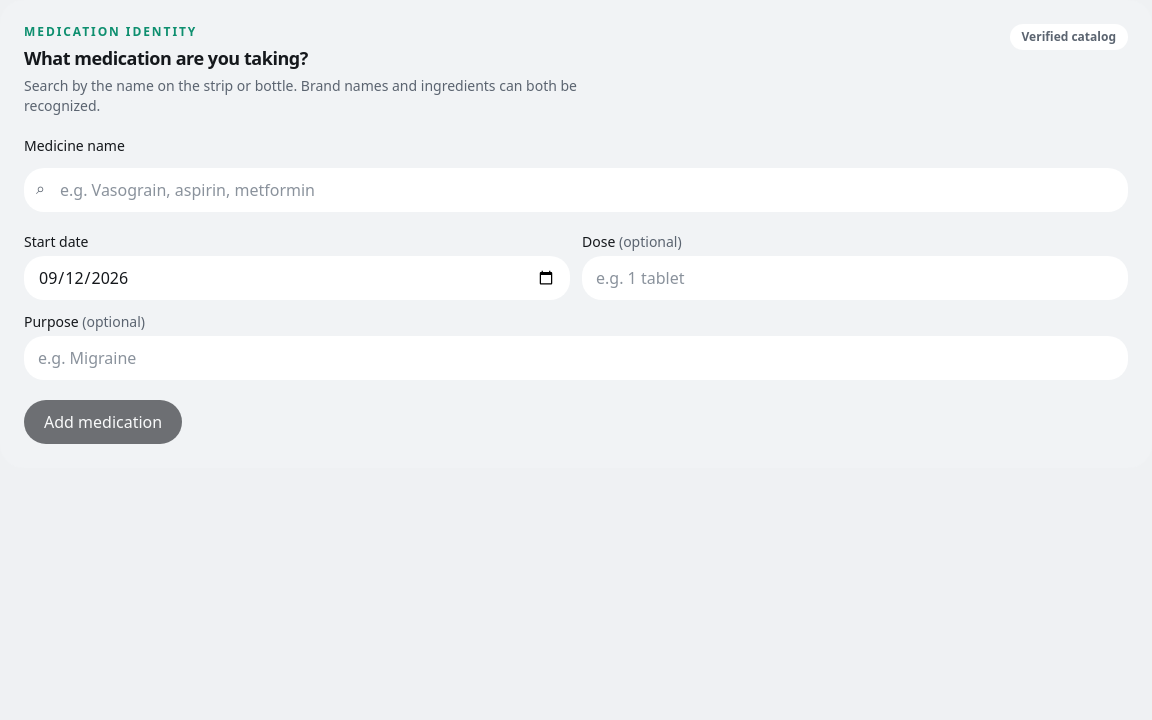
Test: MedicationPicker keyboard › closes the listbox on Escape without selecting
Type "ex" into the dropdown labelled "Medicine name" at x=576, y=190, box [24,168,1128,212]
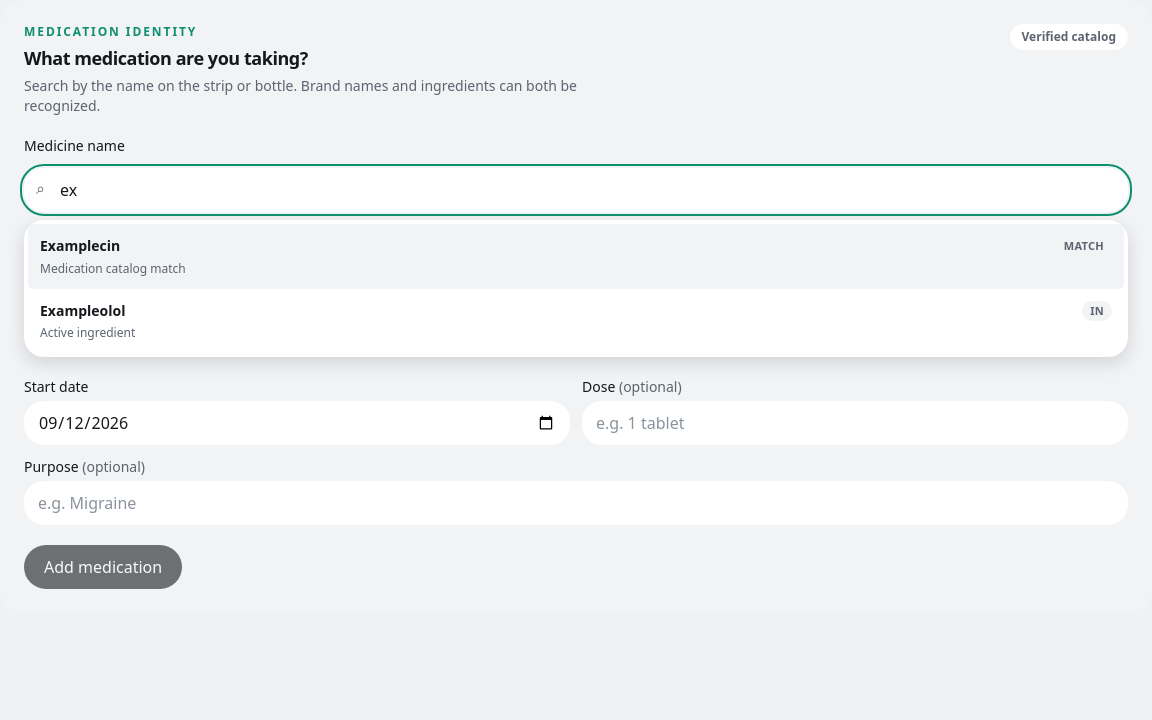
Check: the list is shown, box [24,220,1128,357]
Press Escape
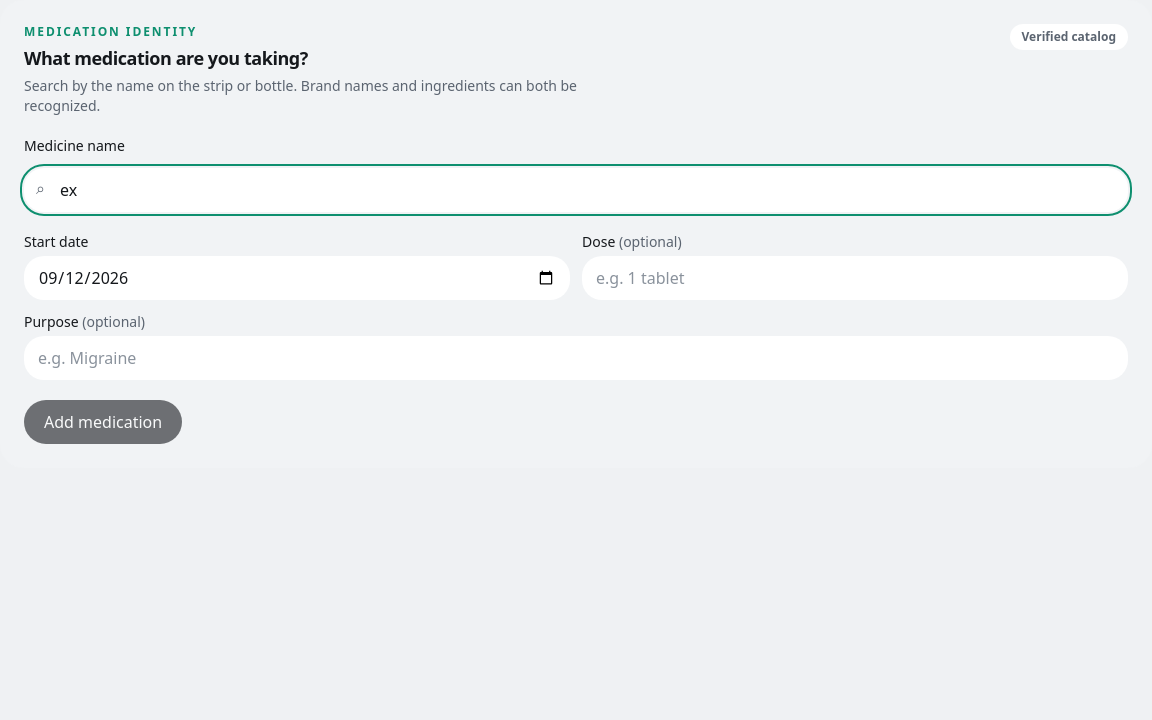
Check: the list is gone
